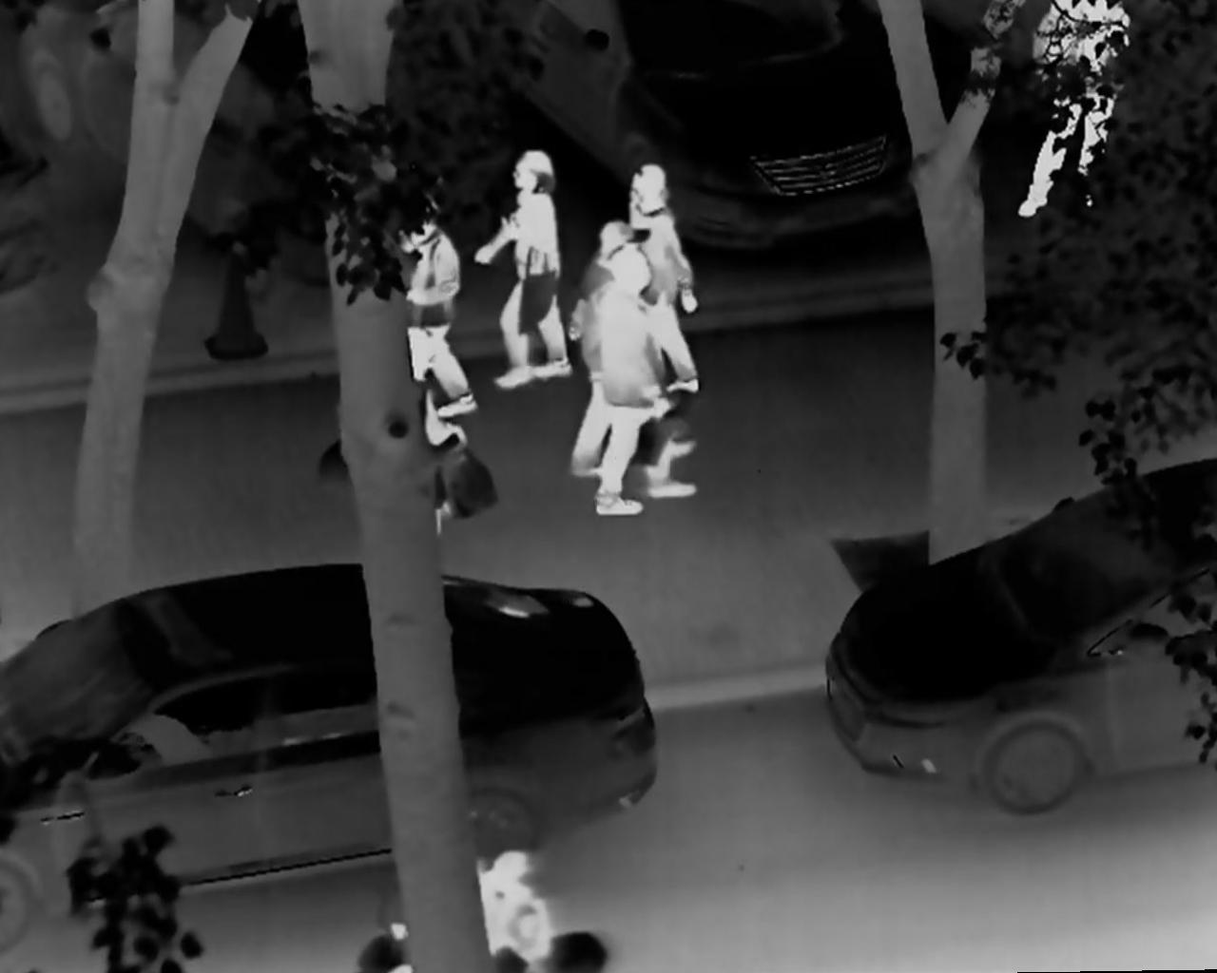person: (569, 221, 696, 482), (580, 249, 700, 518), (349, 189, 481, 429), (347, 320, 484, 551), (473, 149, 580, 390), (615, 161, 704, 400), (432, 849, 556, 973)
